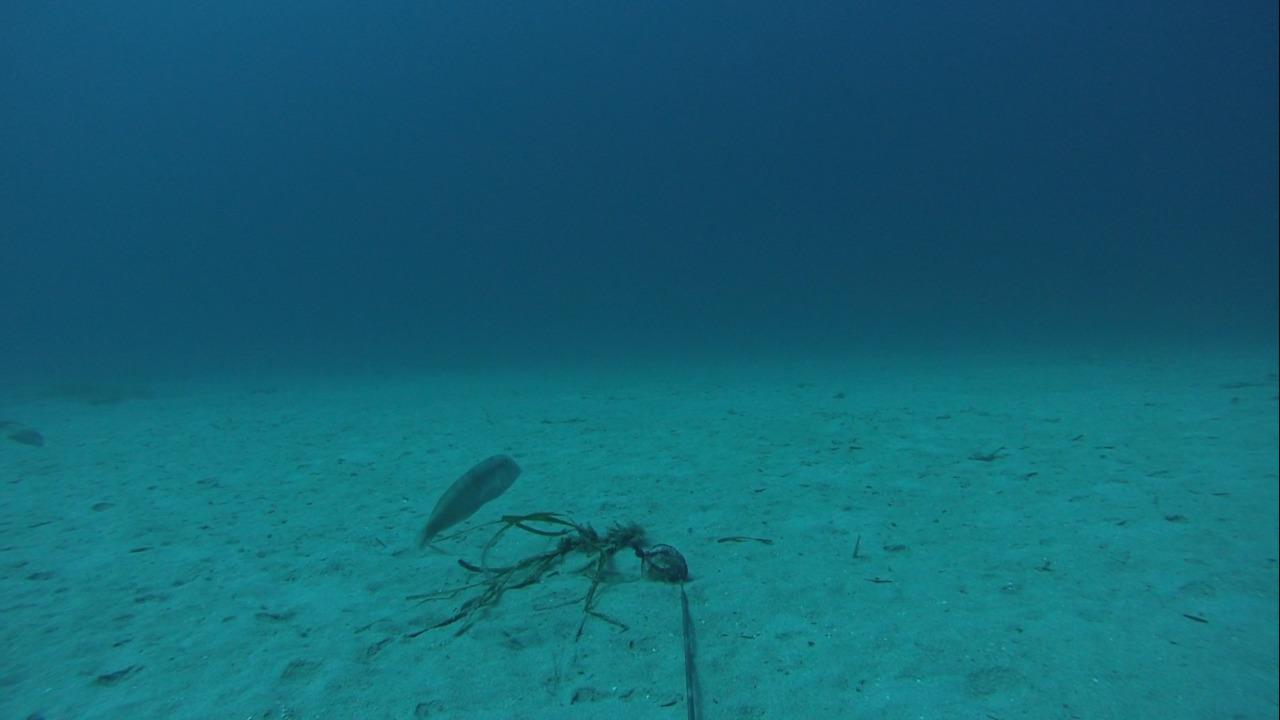raor: (411, 450, 521, 546)
